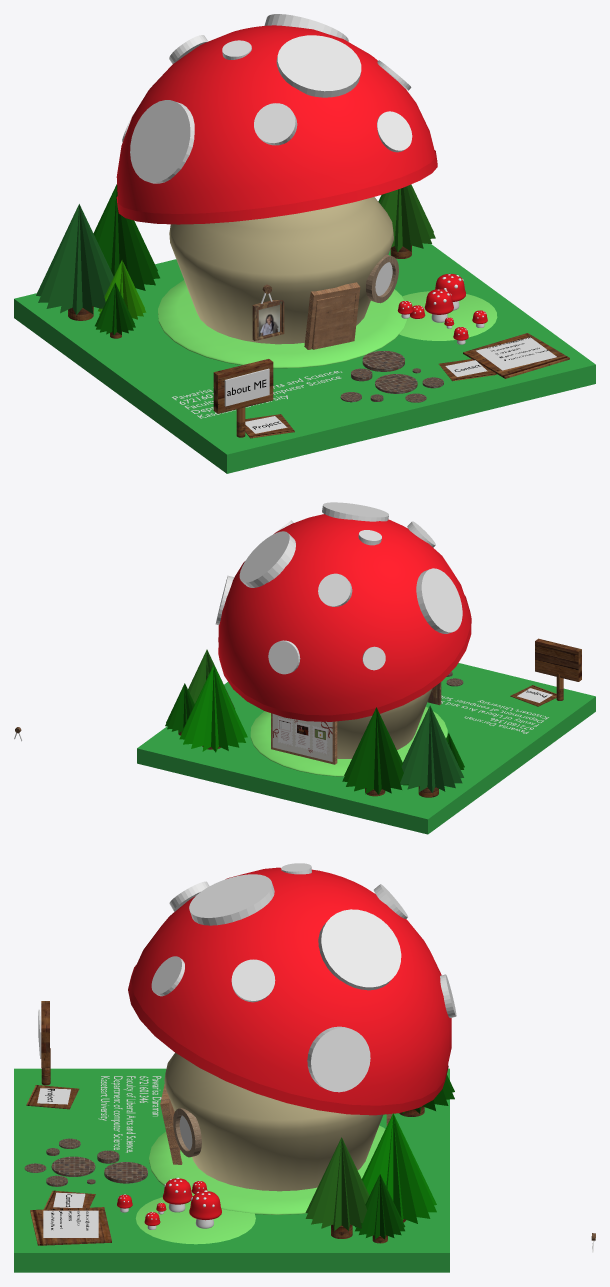
Rendered from Mashroom3.glb.
3 views of the same model, one above another, from view 1: azimuth 30°, elevation 25°; view 2: azimuth 150°, elevation 25°; view 3: azimuth 270°, elevation 25° (orthographic). The views are drawn at different scales.
Visible parts, largest first — view 1: ระนาบ.001, ทรงกลม, ทรงกระบอก.001, ทรงกระบอก, ทรงกรวย.004, ทรงกระบอก.005, ทรงกระบอก.002, ทรงกรวย.003, ทรงกระบอก.032, ทรงกรวย, ระนาบ.003, ระนาบ.005 (+16 smaller); view 2: ทรงกลม, ระนาบ.001, ทรงกรวย.001, ทรงกรวย.004, ทรงกรวย.003, ทรงกระบอก.001, ทรงกระบอก.005, ทรงกระบอก, ระนาบ.007, ทรงกระบอก.003, ลูกบาศก์.001, ทรงกระบอก.002 (+7 smaller); view 3: ทรงกลม, ระนาบ.001, ทรงกระบอก.001, ทรงกระบอก.003, ทรงกระบอก, ทรงกรวย.001, ทรงกรวย, ทรงกระบอก.010, ทรงกระบอก.002, ทรงกระบอก.032, ทรงกรวย.002, ระนาบ.005 (+12 smaller).
Part boxes in pixels (left/top/right/bottom): ระนาบ.001: left=14, top=243, right=595, bottom=473; ทรงกลม: left=116, top=25, right=437, bottom=224; ทรงกระบอก.001: left=169, top=197, right=393, bottom=344; ทรงกระบอก: left=158, top=280, right=407, bottom=368; ทรงกรวย.004: left=36, top=204, right=113, bottom=314; ทรงกระบอก.005: left=130, top=100, right=194, bottom=183; ทรงกระบอก.002: left=276, top=35, right=361, bottom=97; ทรงกรวย.003: left=93, top=184, right=159, bottom=290; ทรงกระบอก.032: left=399, top=291, right=497, bottom=340; ทรงกรวย: left=379, top=184, right=435, bottom=252; ระนาบ.003: left=311, top=293, right=355, bottom=349; ระนาบ.005: left=476, top=337, right=556, bottom=370; ทรงกลม: left=218, top=514, right=471, bottom=721; ระนาบ.001: left=137, top=663, right=595, bottom=834; ทรงกรวย.001: left=179, top=665, right=247, bottom=752; ทรงกรวย.004: left=400, top=705, right=463, bottom=792; ทรงกรวย.003: left=342, top=707, right=408, bottom=794; ทรงกระบอก.001: left=337, top=688, right=432, bottom=758; ทรงกระบอก.005: left=416, top=568, right=462, bottom=633; ทรงกระบอก: left=250, top=707, right=447, bottom=776; ระนาบ.007: left=272, top=714, right=332, bottom=761; ทรงกระบอก.003: left=239, top=531, right=295, bottom=587; ลูกบาศก์.001: left=535, top=638, right=581, bottom=681; ทรงกระบอก.002: left=322, top=502, right=388, bottom=521; ทรงกลม: left=128, top=867, right=451, bottom=1115; ระนาบ.001: left=14, top=1068, right=449, bottom=1272; ทรงกระบอก.001: left=164, top=1052, right=382, bottom=1191; ทรงกระบอก.003: left=318, top=909, right=401, bottom=990; ทรงกระบอก: left=149, top=1125, right=385, bottom=1214; ทรงกรวย.001: left=362, top=1113, right=436, bottom=1223; ทรงกรวย: left=305, top=1137, right=369, bottom=1230; ทรงกระบอก.010: left=307, top=1026, right=370, bottom=1092; ทรงกระบอก.002: left=189, top=874, right=274, bottom=925; ทรงกระบอก.032: left=135, top=1197, right=255, bottom=1244; ทรงกรวย.002: left=355, top=1174, right=405, bottom=1239; ระนาบ.005: left=43, top=1210, right=98, bottom=1237.
Bounding box in the file's own units: 12.48 × 7.68 × 13.35.
36 materials, 20 textured.
